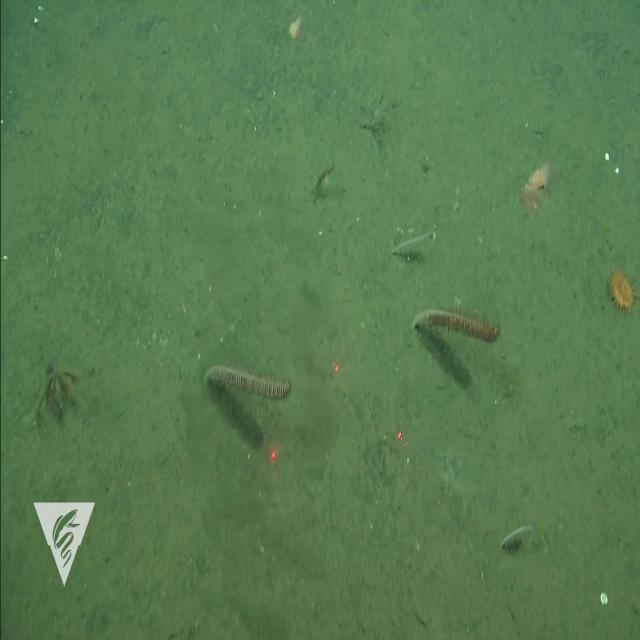Not Brittle Star: (39, 359, 83, 416), (359, 91, 395, 148)
